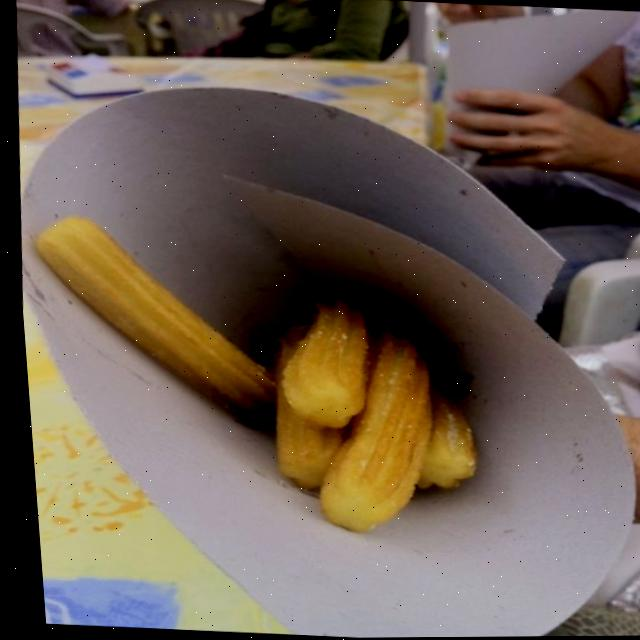炸货点心: (8, 132, 574, 608)
